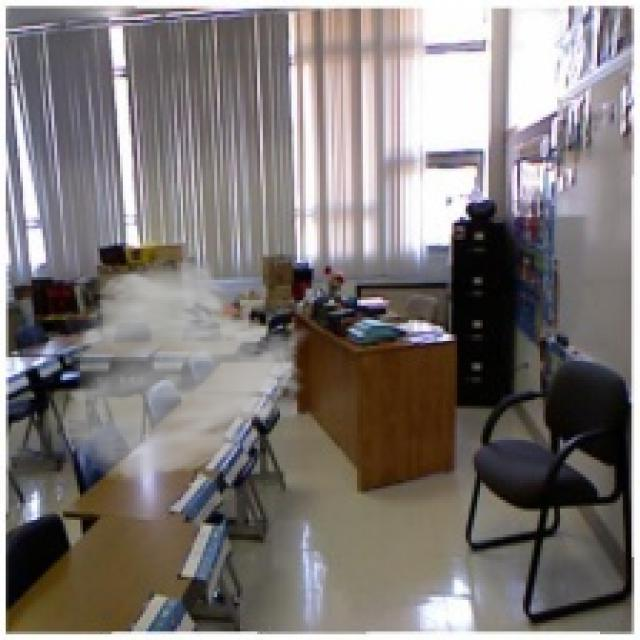Smoke: (54, 254, 314, 483)
